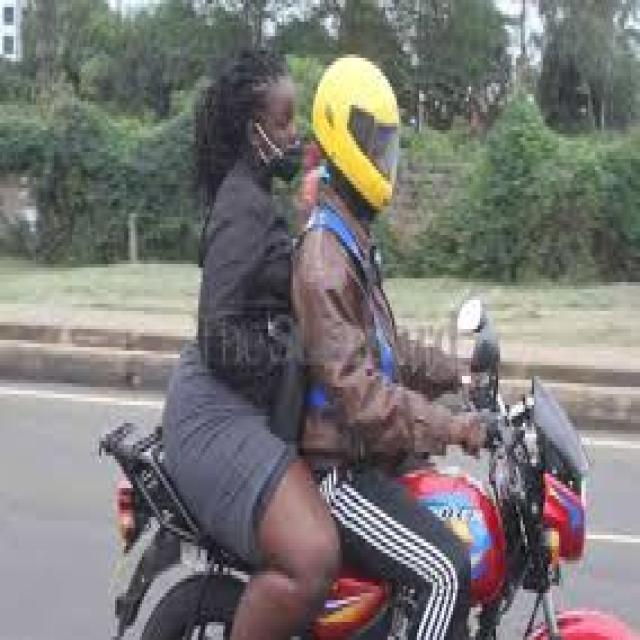bodaboda: (78, 268, 639, 640)
